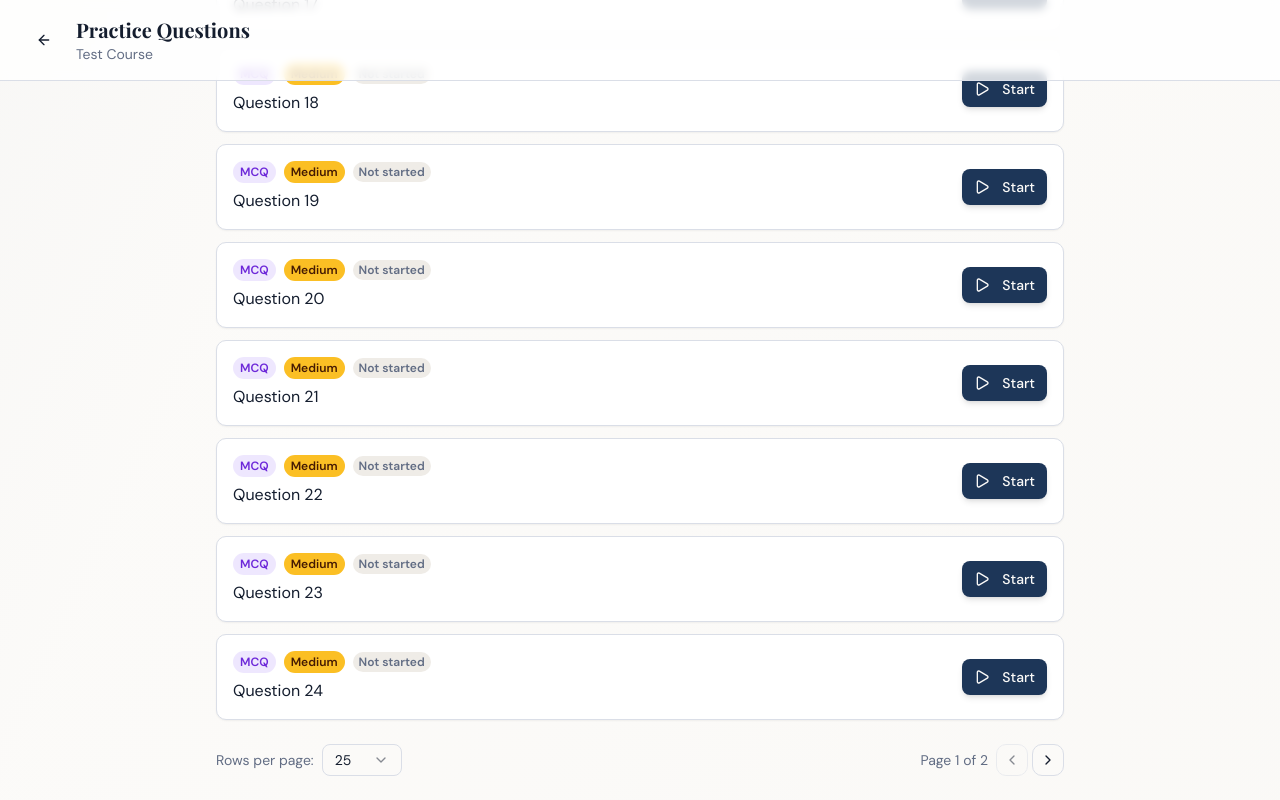
Test: UnifiedPracticeQuestionsList › client-side pagination (#775) › advances to the next page when Next is clicked and shows the remaining rows
The image size is (1280, 800).
(page scrolled)
Click the button with test id "bank-page-next" at (1048, 760), box [1032, 744, 1064, 776]
(page scrolled)
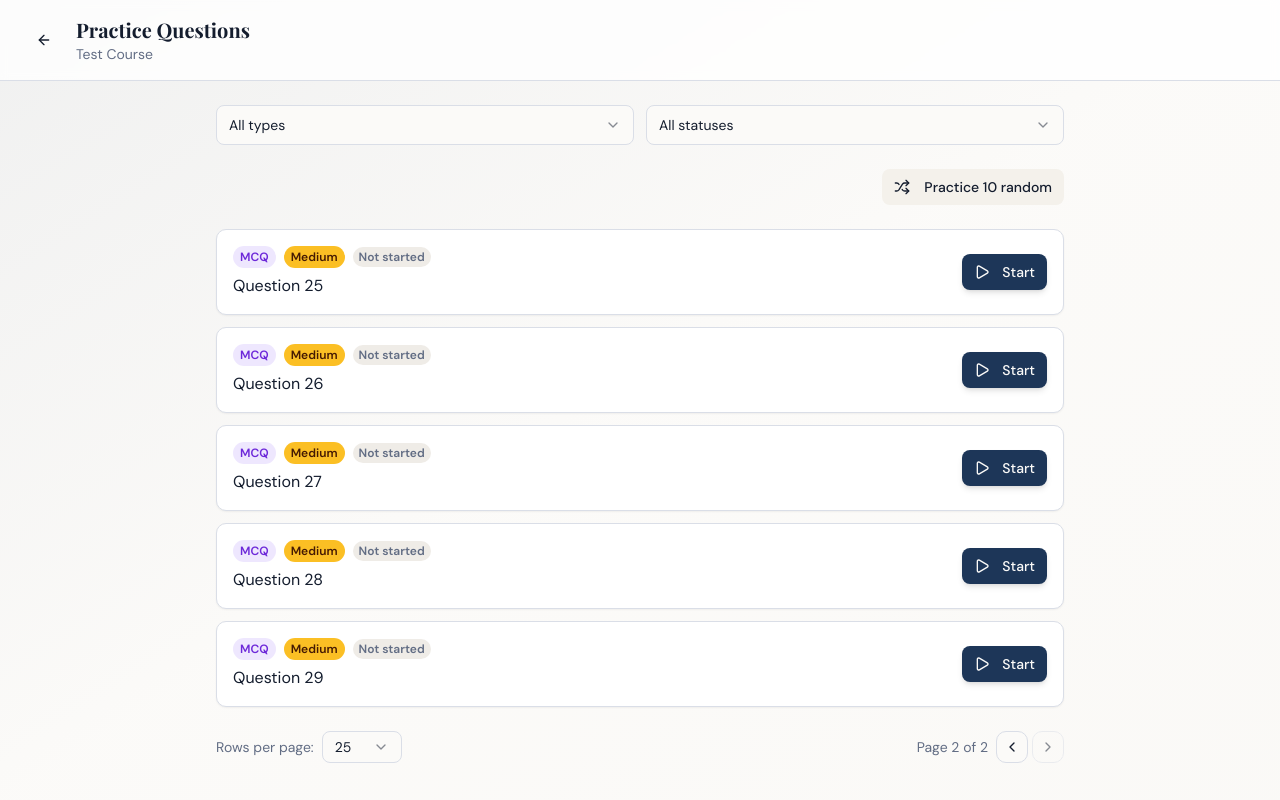
Expected: the number of list items is 5, [216, 229, 1064, 315]; [216, 327, 1064, 413]; [216, 425, 1064, 511]; [216, 523, 1064, 609]; [216, 621, 1064, 707]
Expected: the text with test id "bank-page-indicator" reads "Page 2 of 2", [917, 737, 988, 757]
Expected: the text "Question 25" is shown, [233, 275, 323, 296]
